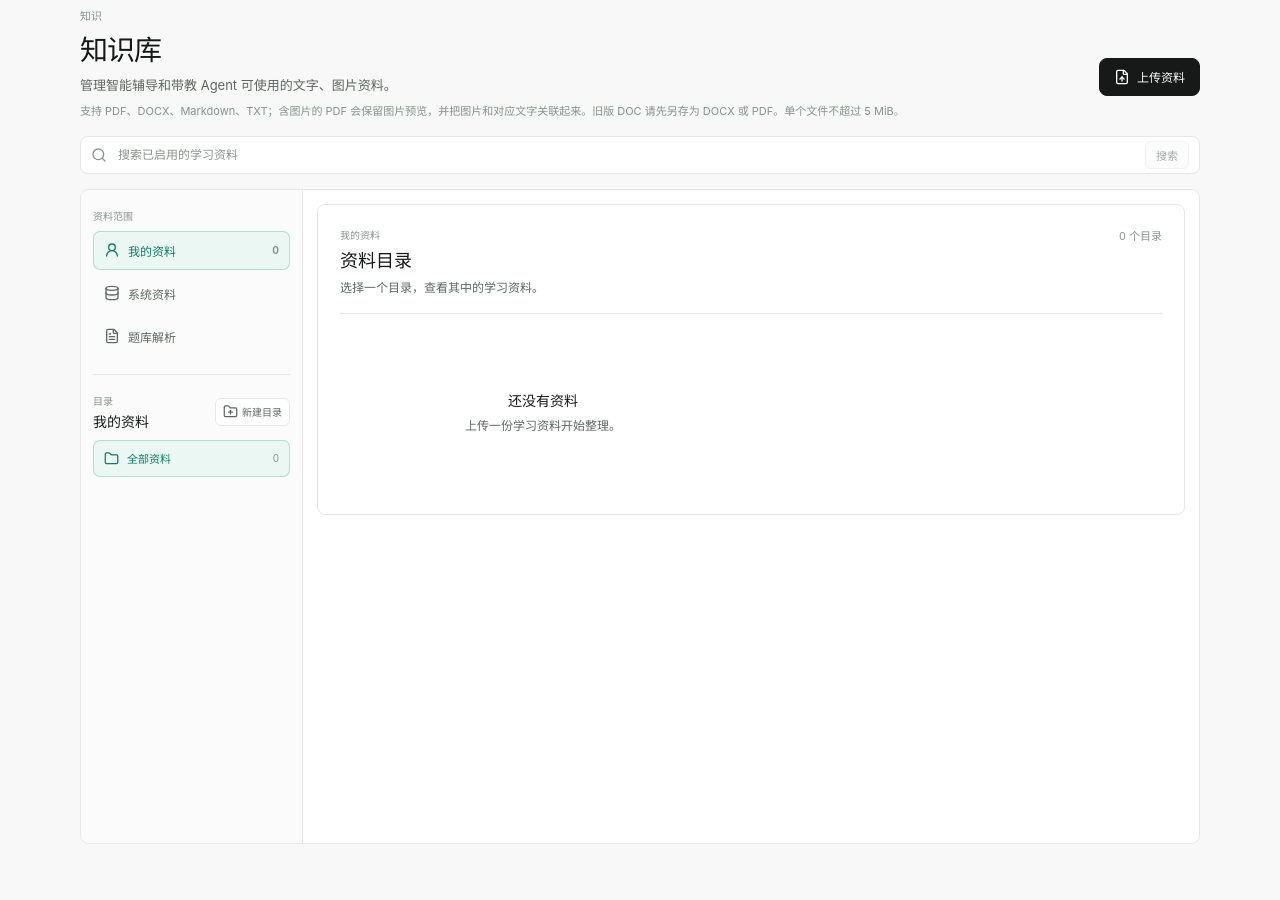
Test case: Stage 1 page contracts › uses learner-facing wording for generated question-bank explanation sources
Step 1. Click the tab "题库解析" → (192,336), box [93,317,290,356]
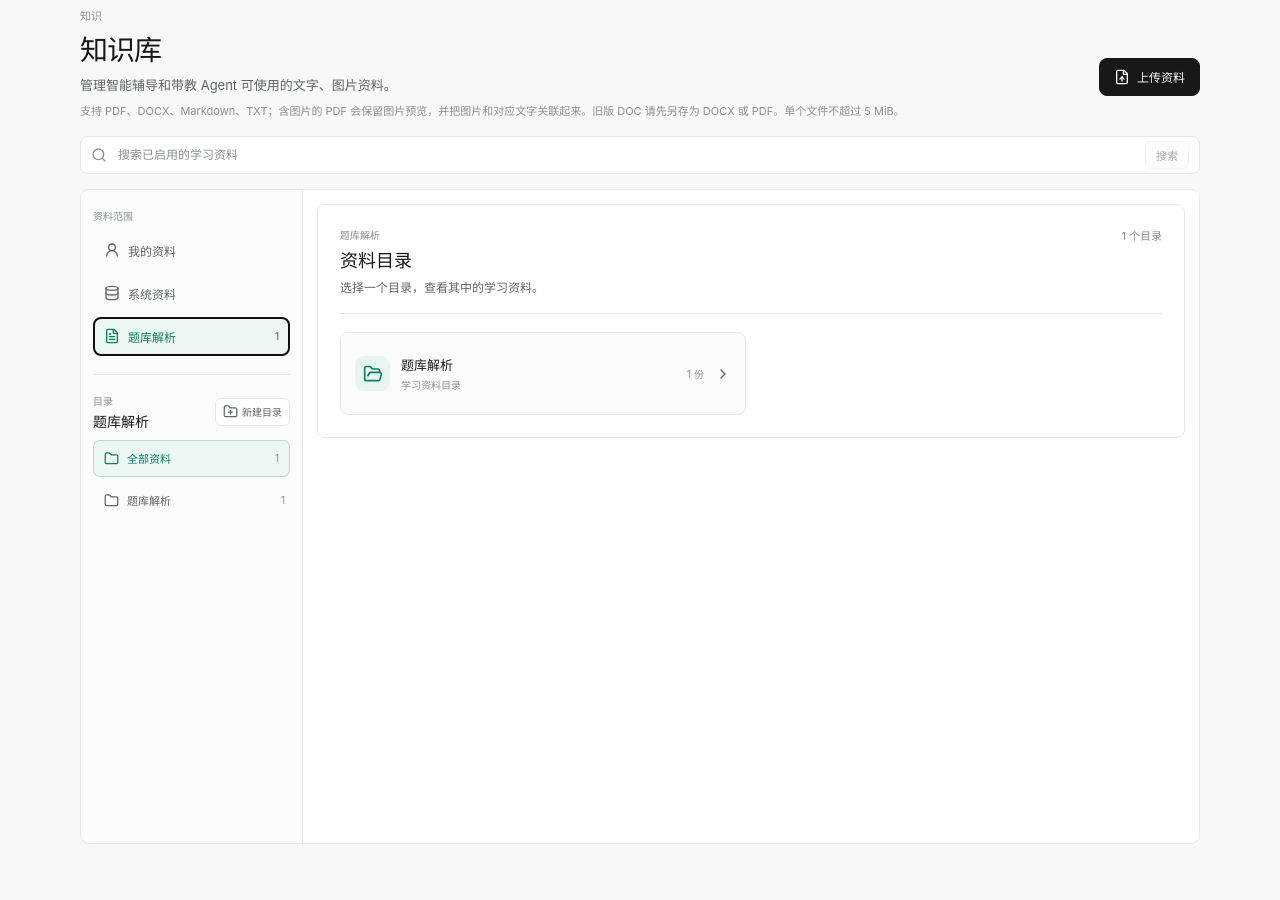
Step 2. Click the button with aria-label "打开题库解析" → (372,374), box [340,332,746,415]
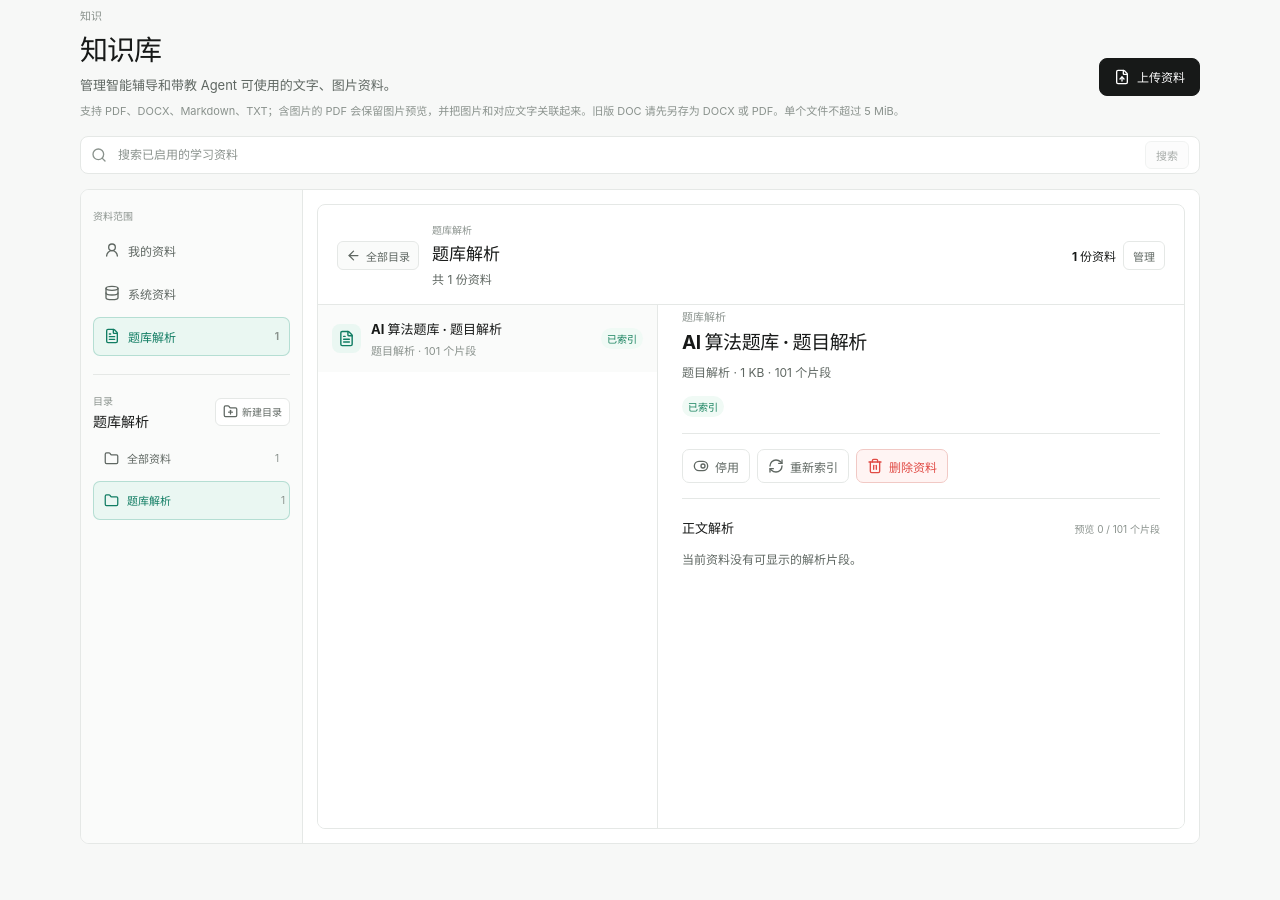
Result: the button "AI 算法题库 · 题目解析 题目解析 · 101 个片段 已索引" is shown at [318,305,657,372]
